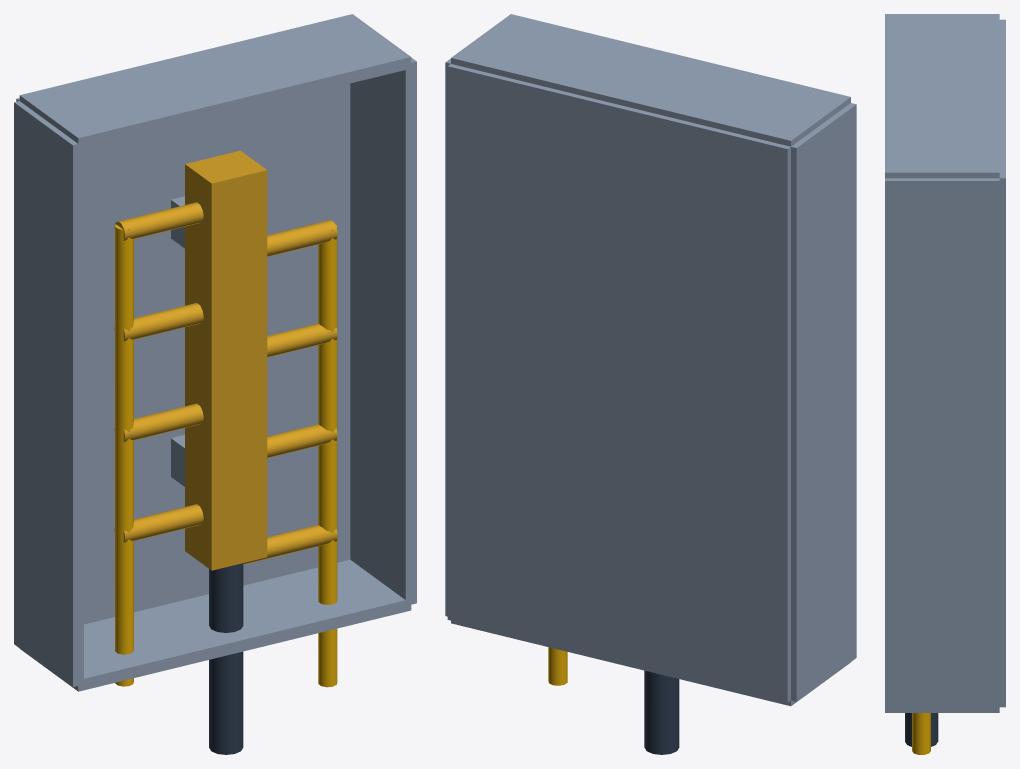
File: csst-gas-manifold.glb
The picture shows the model from 3 angles, left to right: view 1: azimuth 30°, elevation 25°; view 2: azimuth 150°, elevation 25°; view 3: azimuth 270°, elevation 25°; orthographic projection. The views are drawn at different scales.
Parts seen in each view (by area): view 1: plumbing-manifold-gas-csst-open-manifold; view 2: plumbing-manifold-gas-csst-open-manifold; view 3: plumbing-manifold-gas-csst-open-manifold.
Boxes of the visible parts, x1,y1,x2,y2 form: plumbing-manifold-gas-csst-open-manifold: [14, 14, 416, 754]; plumbing-manifold-gas-csst-open-manifold: [445, 14, 856, 754]; plumbing-manifold-gas-csst-open-manifold: [885, 14, 1005, 754].
Size of the model in its own units: 0.372 by 0.686 by 0.116.
